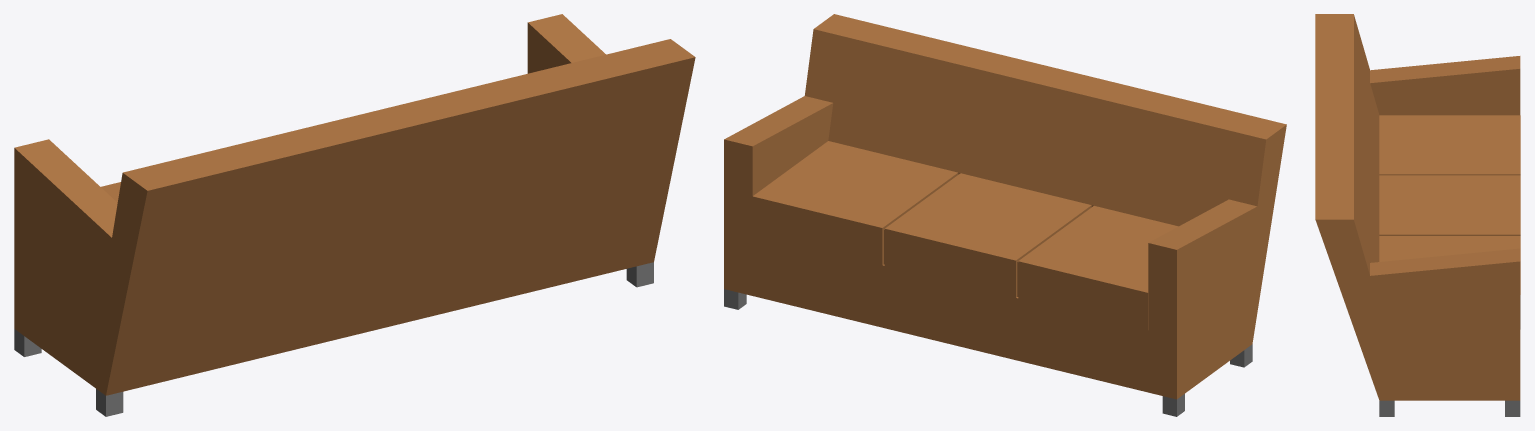
The model's file is couch.dae.
3 views of the same model, side by side, from view 1: azimuth 30°, elevation 25°; view 2: azimuth 150°, elevation 25°; view 3: azimuth 270°, elevation 25° (orthographic). The views are drawn at different scales.
Visible parts, largest first — view 1: SketchUp; view 2: SketchUp; view 3: SketchUp (×3).
Part boxes in pixels (x1,y1,x2,y2): SketchUp: (14, 14, 695, 395); SketchUp: (724, 14, 1286, 399); SketchUp (×3): (1315, 14, 1520, 416).
Size of the model in its own units: 74.8 by 31.54 by 33.46.
Materials: 3 (2 with a texture image).
